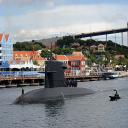submarine: (13, 42, 100, 107)
